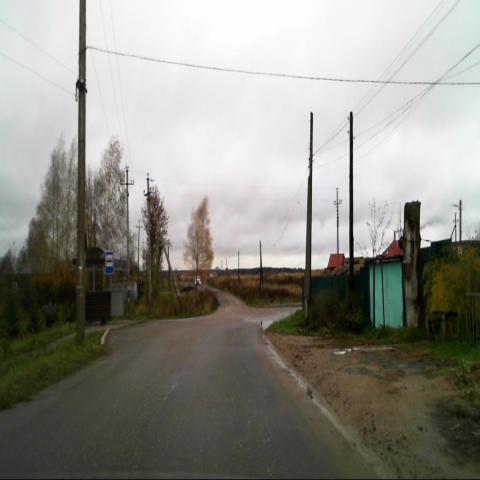5_16: (104, 251, 114, 275)
